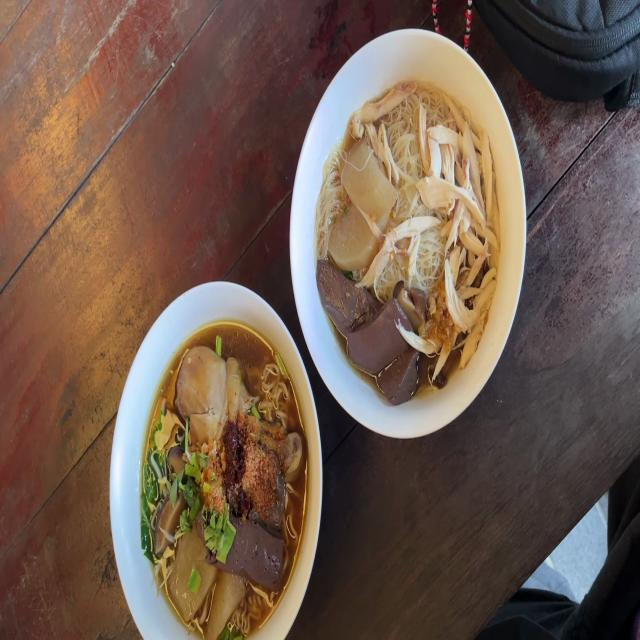boiled_chicken_blood_jelly: (316, 261, 371, 330), (348, 305, 403, 366), (232, 516, 280, 580), (387, 352, 414, 397), (274, 463, 286, 514)
chicken_drumstick: (173, 343, 304, 487)
chicken_shredded: (424, 101, 493, 336), (352, 74, 413, 137)
daikon_radish: (342, 135, 390, 217), (167, 535, 216, 612), (209, 573, 248, 640), (332, 211, 369, 271)
noodle: (136, 317, 310, 640), (327, 77, 498, 386)
